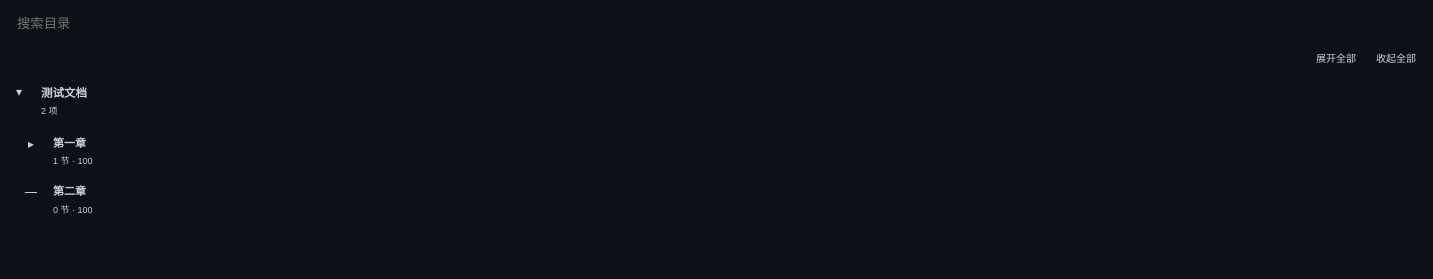
DocumentOutlineTree › expands and collapses a branch with persistent state
This screenshot has width=1433, height=279.
Click the button named "展开第一章" at (31, 144), box [19,128,43,160]
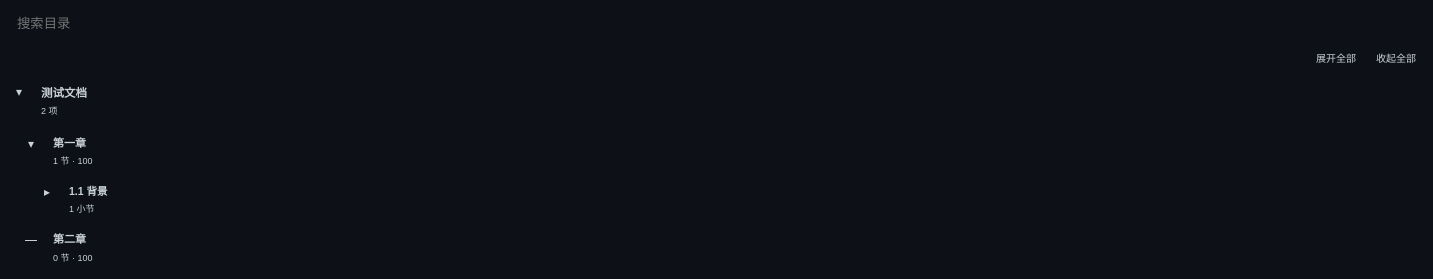
Now the text "1.1 背景" is shown, box [69,186,108,198]
Click the button named "收起第一章" at (31, 144), box [19,128,43,160]
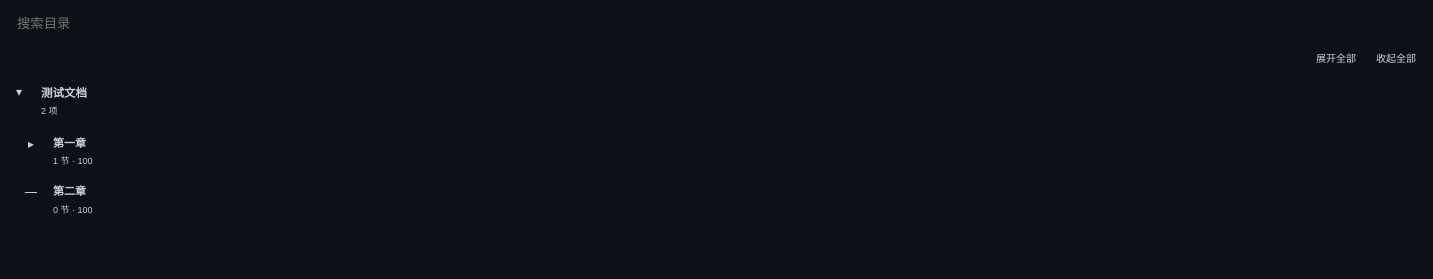
Now the text "1.1 背景" is gone
